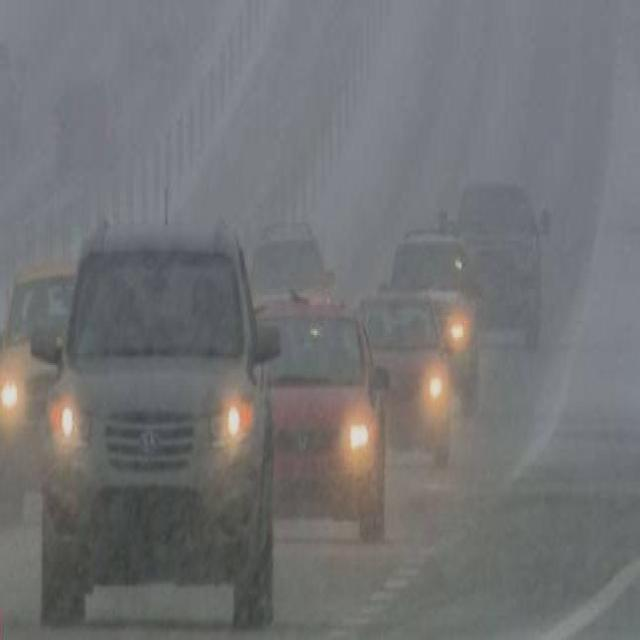Car: (39, 202, 272, 619), (268, 286, 388, 527), (444, 141, 552, 338), (0, 247, 82, 490), (358, 273, 456, 452), (392, 190, 482, 371), (252, 190, 335, 329)
